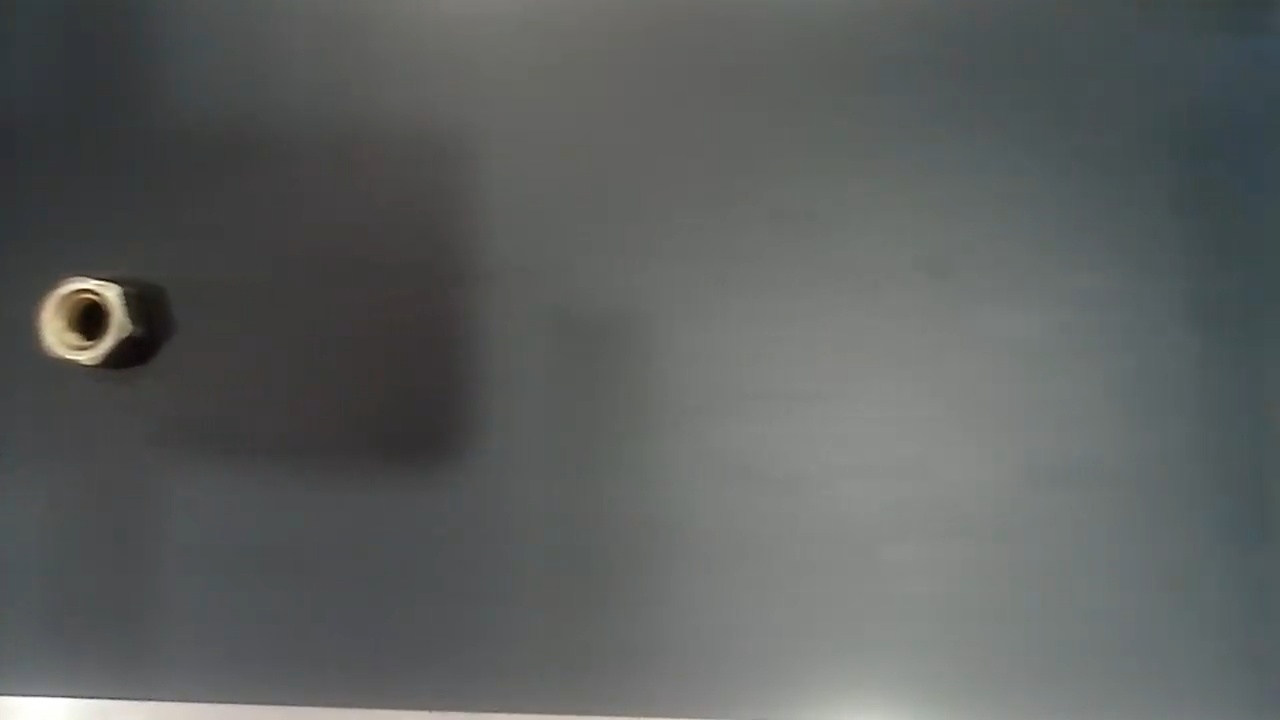Bolt: (33, 275, 146, 372)
